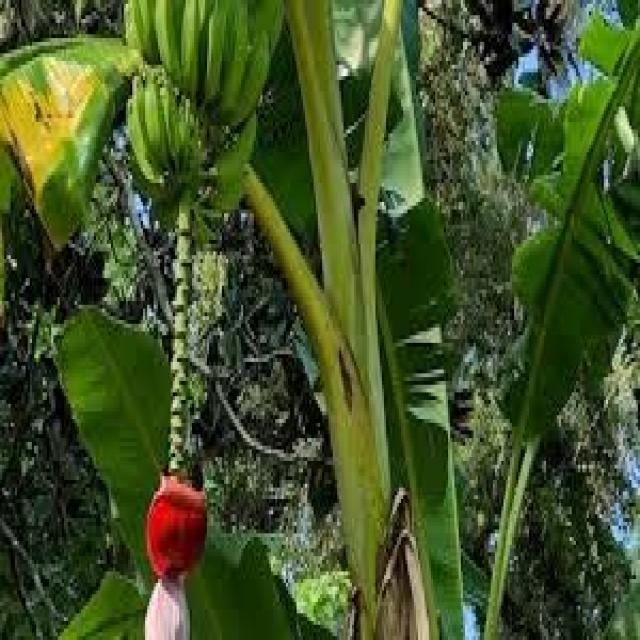banana: (124, 3, 260, 195)
